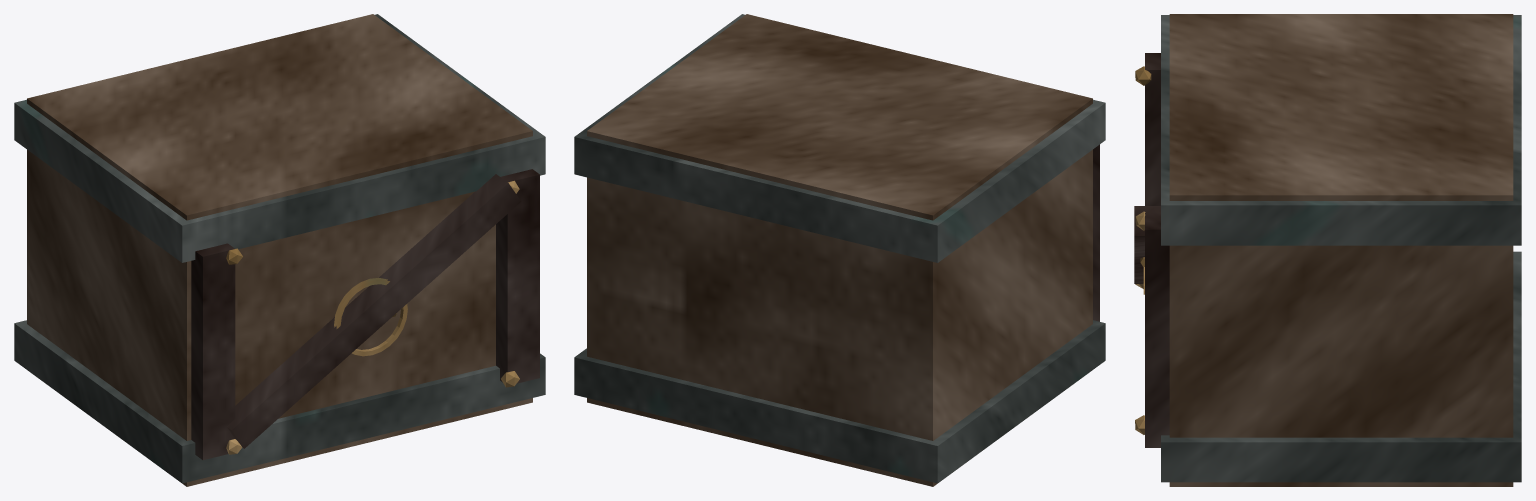
The model's file is 0748_supply_crate_23.glb.
3 renders of one model, left to right at view 1: azimuth 30°, elevation 25°; view 2: azimuth 150°, elevation 25°; view 3: azimuth 270°, elevation 25°, orthographic. The views are drawn at different scales.
Visible parts, largest first — view 1: wood, iron, wood_dark, brass; view 2: wood, iron, wood_dark; view 3: wood, iron, wood_dark, brass.
Part boxes in pixels (bbox=[...]): wood: bbox=[27, 14, 532, 486]; iron: bbox=[14, 14, 545, 483]; wood_dark: bbox=[191, 169, 539, 460]; brass: bbox=[226, 180, 519, 454]; wood: bbox=[587, 14, 1092, 486]; iron: bbox=[574, 14, 1105, 483]; wood_dark: bbox=[1093, 144, 1099, 321]; wood: bbox=[1169, 14, 1513, 486]; iron: bbox=[1161, 15, 1521, 482]; wood_dark: bbox=[1134, 53, 1169, 447]; brass: bbox=[1135, 66, 1151, 434].
Size of the model in its own units: 1.12 by 0.7987 by 0.9624.
4 materials, 4 textured.
